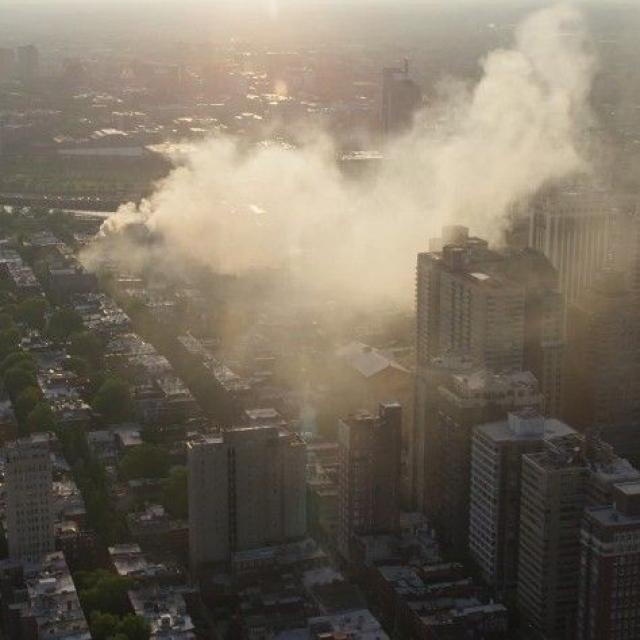Smoke: (132, 153, 454, 401), (438, 57, 602, 222)
